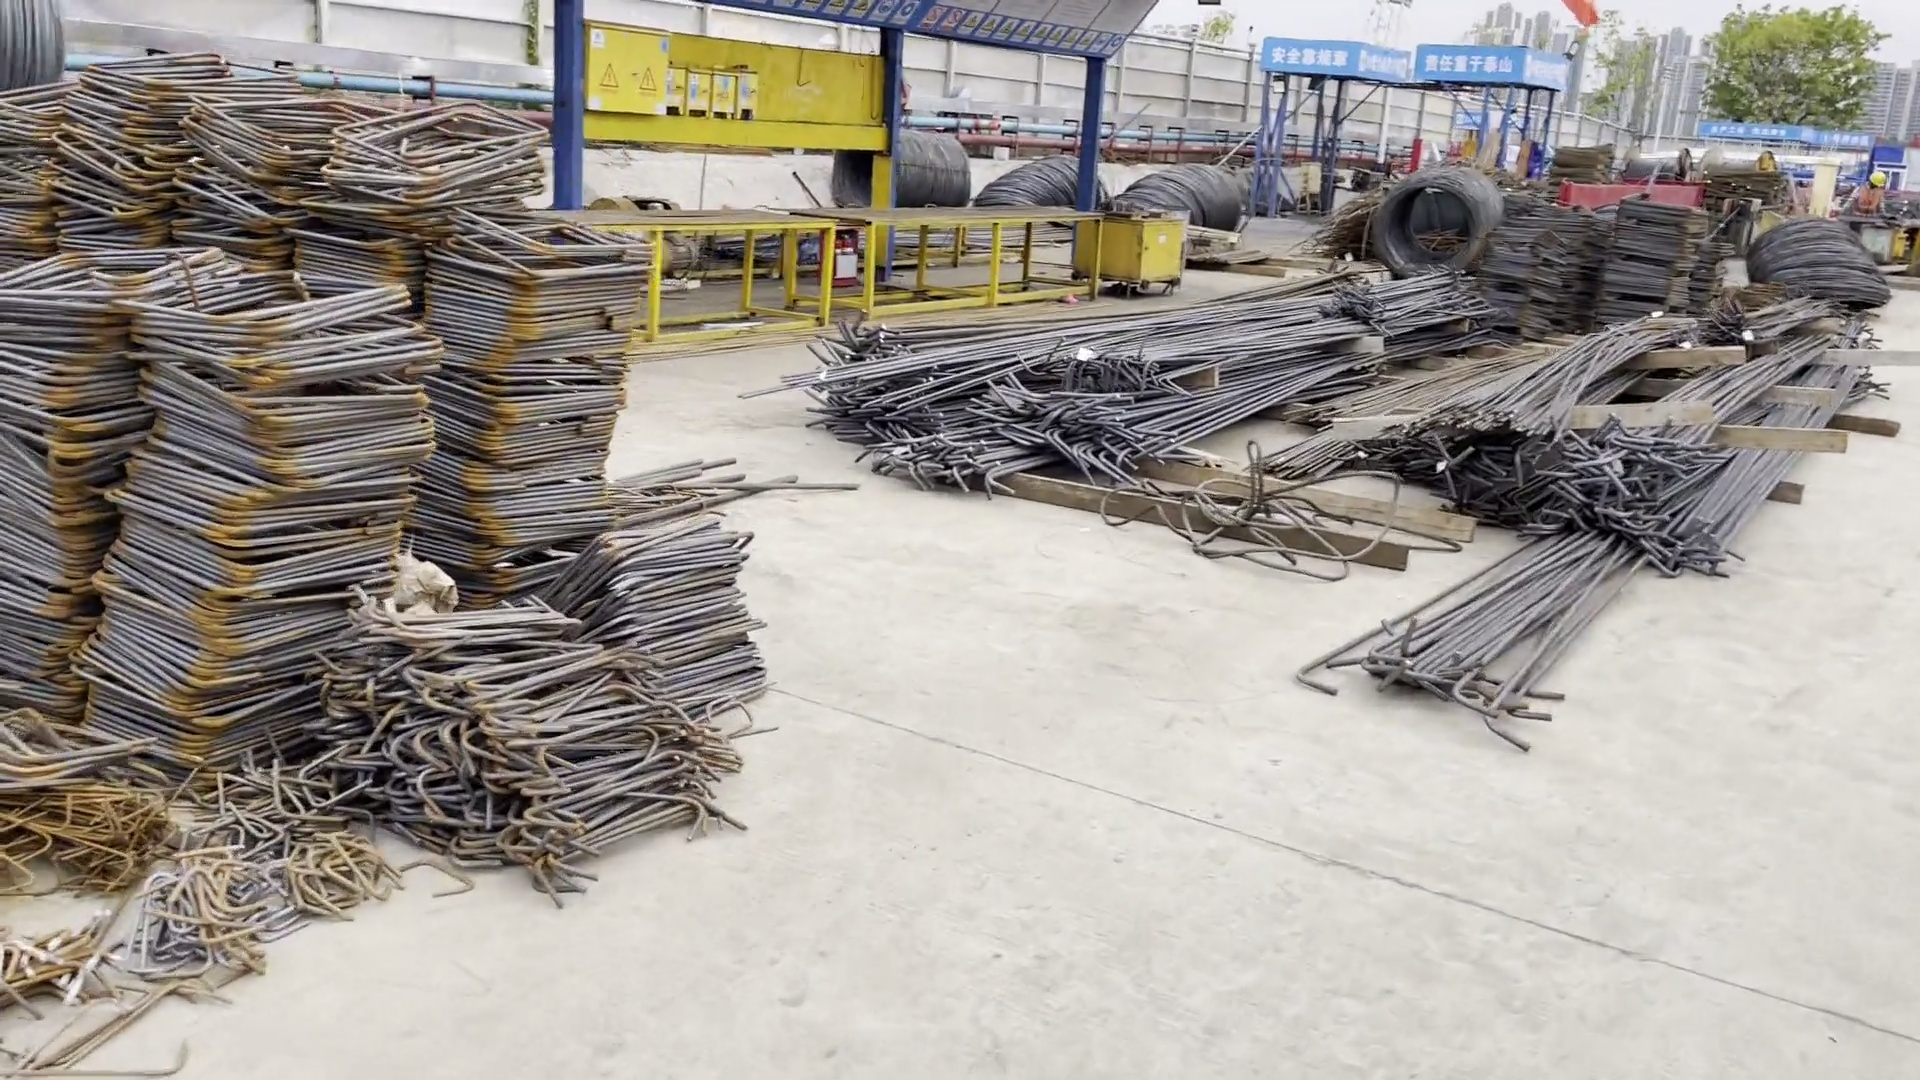ebox: (578, 22, 673, 122)
helmet: (1867, 172, 1890, 191)
person: (1845, 170, 1888, 216)
rebar: (1415, 243, 1903, 719), (845, 246, 1526, 493)
slogan: (1269, 42, 1347, 80), (1424, 49, 1520, 78)
vest: (1851, 186, 1888, 213)
